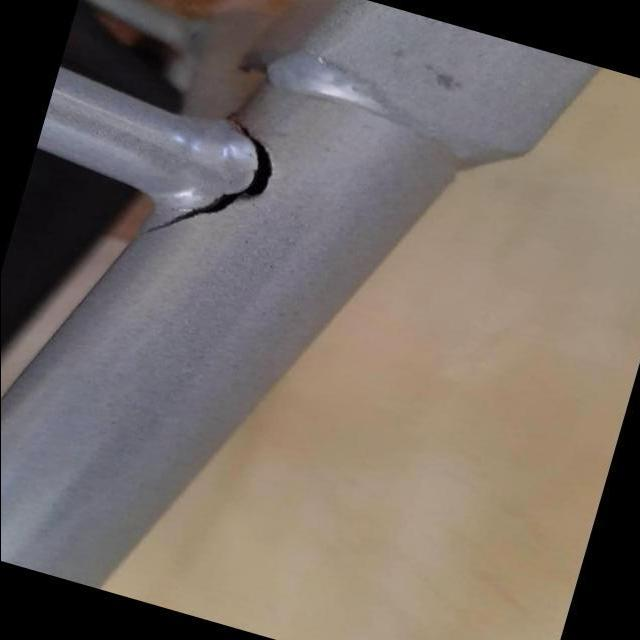defect: (134, 106, 286, 239)
